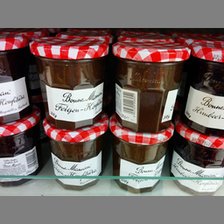jam: (29, 34, 110, 129), (112, 39, 192, 134), (108, 114, 175, 192), (43, 119, 110, 190), (179, 38, 224, 136), (169, 121, 224, 194), (1, 106, 42, 190)
